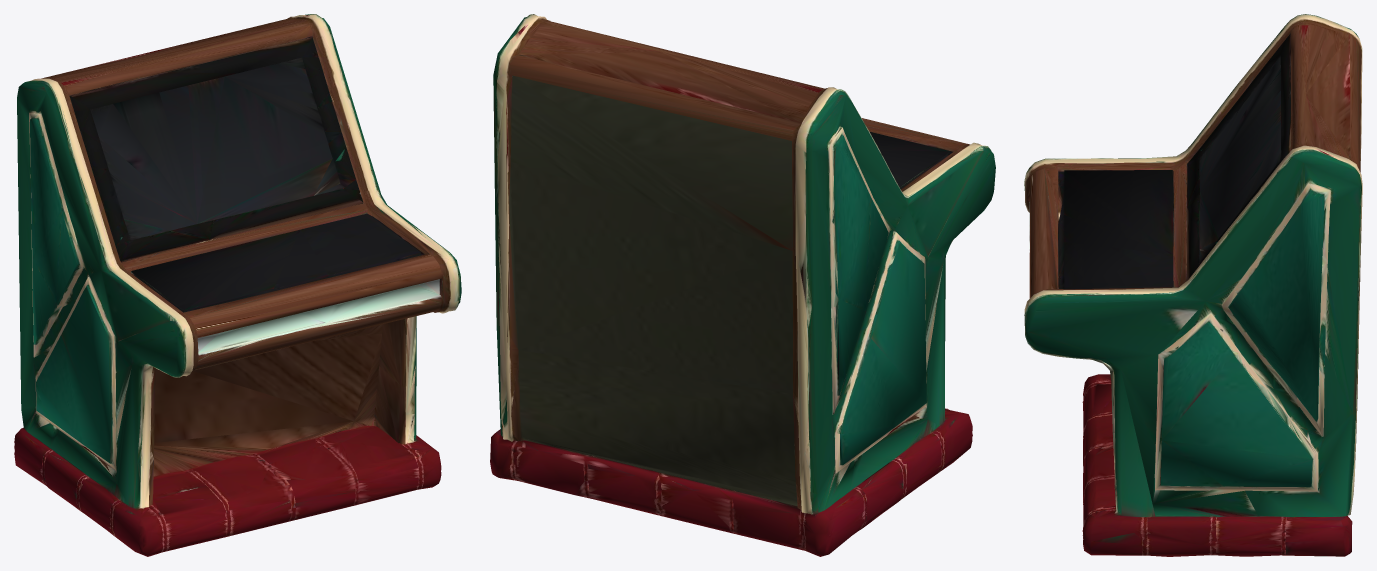
The model's file is console.glb.
3 renders of one model, left to right at view 1: azimuth 30°, elevation 25°; view 2: azimuth 150°, elevation 25°; view 3: azimuth 270°, elevation 25°, orthographic. The views are drawn at different scales.
Parts seen in each view (by area): view 1: Mesh_0; view 2: Mesh_0; view 3: Mesh_0.
Part boxes in pixels (x1,y1,x2,y2): Mesh_0: [14, 14, 461, 556]; Mesh_0: [490, 14, 995, 556]; Mesh_0: [1024, 14, 1362, 556].
Size of the model in its own units: 1.2 by 1.5 by 1.14.
1 material, 1 textured.
